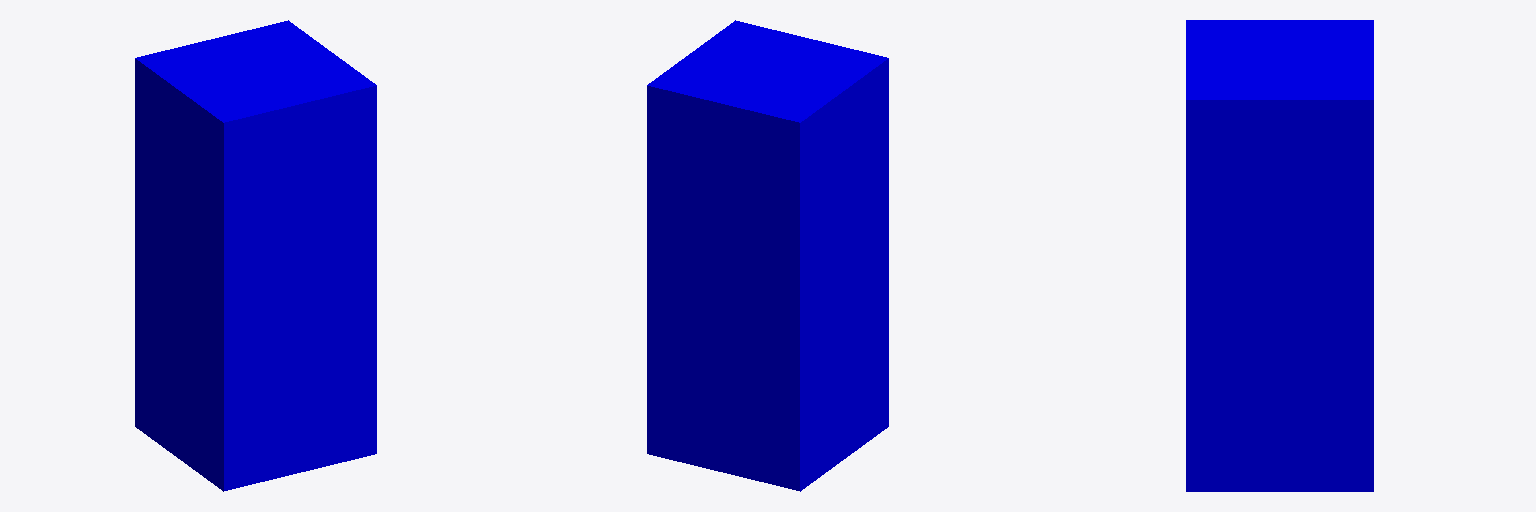
URDF robot description (milk_carton):
<robot name="milk_carton">
  <link name="milk_carton">
    <collision>
      <origin xyz="0 0 0.11" />
      <geometry>
        <box size="0.096 0.096 0.22" />
      </geometry>
    </collision>
    <visual>
      <origin xyz="0 0 0.11" />
      <material name="c">
        <color rgba="0 0 1.0 1.0" />
      </material>
      <geometry>
        <box size="0.096 0.096 0.22" />
      </geometry>
    </visual>
  </link>
</robot>

--- Facts derived from the render (not from the file) ---
3 views of the same robot in one strip: view 1: azimuth 30°, elevation 25°; view 2: azimuth 150°, elevation 25°; view 3: azimuth 270°, elevation 25° (orthographic).
Robot: milk_carton — 1 links, 0 joints (none); root link milk_carton; default pose: all joints at 0.
Links seen in each view (by area): view 1: milk_carton; view 2: milk_carton; view 3: milk_carton.
Link boxes in pixels (x1,y1,x2,y2): milk_carton: [135, 20, 376, 491]; milk_carton: [647, 20, 888, 491]; milk_carton: [1186, 20, 1373, 491].
Bounding box of the posed robot: 0.096 × 0.096 × 0.22 m (x, y, z).
Geometry: primitives only (box / cylinder / sphere), no mesh files.